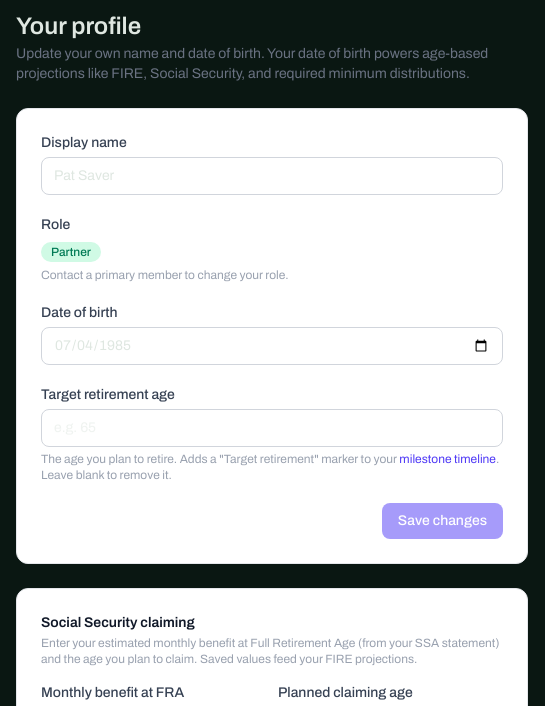
Scenario: Profile › blocks a future date of birth
The width and height of the screenshot is (545, 706).
Type "2999-01-01" into the date field labelled "Date of birth" at (272, 346), box x1=41 y1=327 x2=503 y2=365
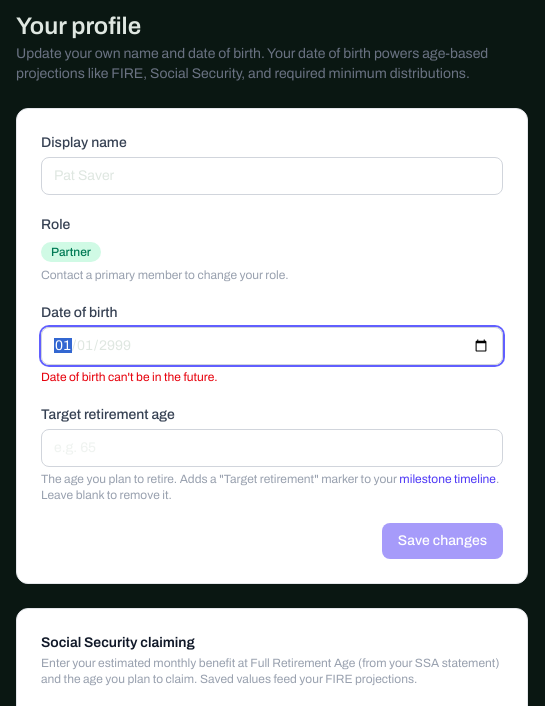
Check: the text "Date of birth can't be in the future." is shown, box x1=41 y1=370 x2=218 y2=384
Check: the button "Save changes" is disabled, box x1=382 y1=523 x2=503 y2=559
